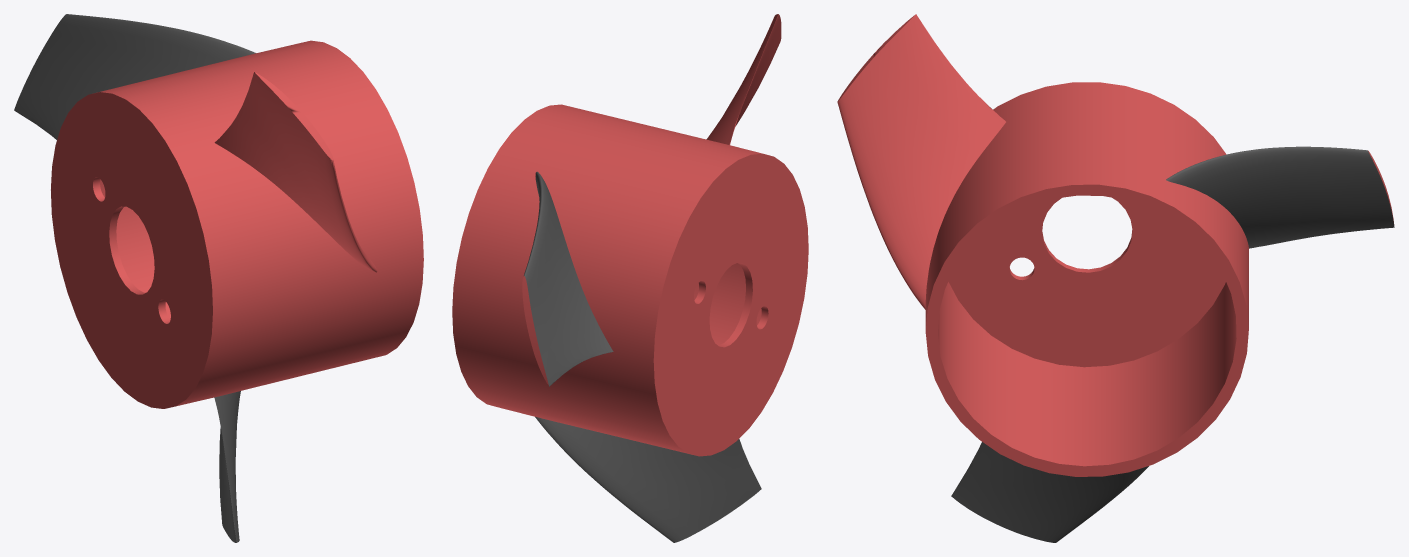
Rendered from VUS.glb.
3 renders of one model, left to right at view 1: azimuth 30°, elevation 25°; view 2: azimuth 150°, elevation 25°; view 3: azimuth 270°, elevation 25°, orthographic. The views are drawn at different scales.
Parts seen in each view (by area): view 1: CAD_material_1, CAD_material_0; view 2: CAD_material_1, CAD_material_0; view 3: CAD_material_1, CAD_material_0.
Boxes of the visible parts, x1,y1,x2,y2 form: CAD_material_1: (51,40,423,408); CAD_material_0: (14,14,255,542); CAD_material_1: (452,14,808,456); CAD_material_0: (524,171,761,542); CAD_material_1: (837,14,1394,476); CAD_material_0: (951,146,1394,542).
Bounding box in the file's own units: 0.03 × 0.0696 × 0.0689.
